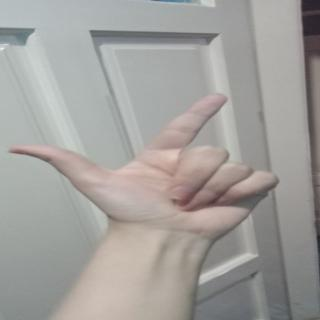LAAM: (2, 84, 289, 232)
